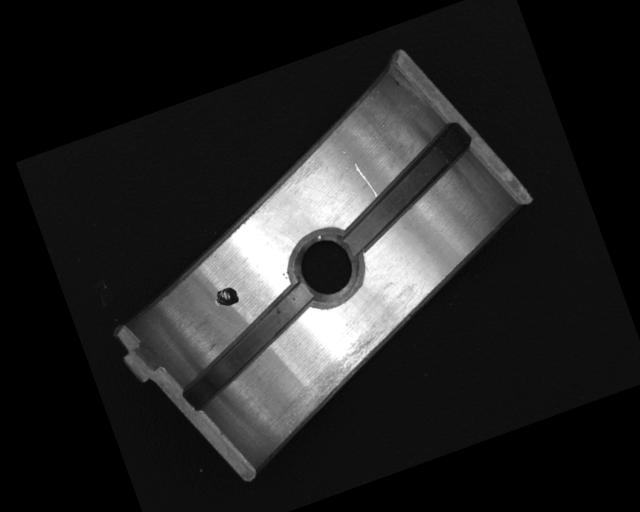blot: (210, 284, 241, 310)
gap: (321, 120, 490, 256), (162, 280, 333, 411)
hole: (281, 221, 370, 315)
nick: (353, 159, 378, 201)
scratch: (264, 323, 415, 434)
